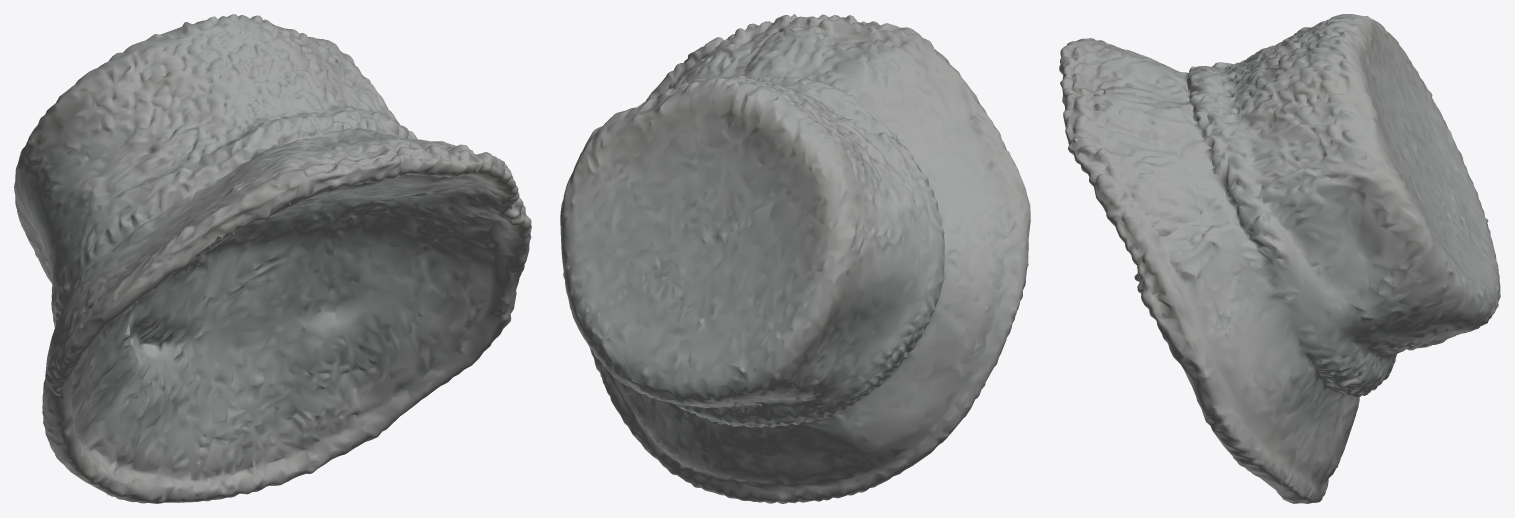
The picture shows the model from 3 angles, left to right: view 1: azimuth 30°, elevation 25°; view 2: azimuth 150°, elevation 25°; view 3: azimuth 270°, elevation 25°; orthographic projection. The views are drawn at different scales.
Parts seen in each view (by area): view 1: tripo_node_a776f537-1bd8-45ac-b69e-cda160799a31; view 2: tripo_node_a776f537-1bd8-45ac-b69e-cda160799a31; view 3: tripo_node_a776f537-1bd8-45ac-b69e-cda160799a31.
Part boxes in pixels (x1,y1,x2,y2): tripo_node_a776f537-1bd8-45ac-b69e-cda160799a31: [14, 14, 531, 503]; tripo_node_a776f537-1bd8-45ac-b69e-cda160799a31: [560, 14, 1030, 503]; tripo_node_a776f537-1bd8-45ac-b69e-cda160799a31: [1059, 14, 1500, 503].
Bounding box in the file's own units: 0.9997 × 0.9447 × 0.855.
Materials: 1 (1 with a texture image).
